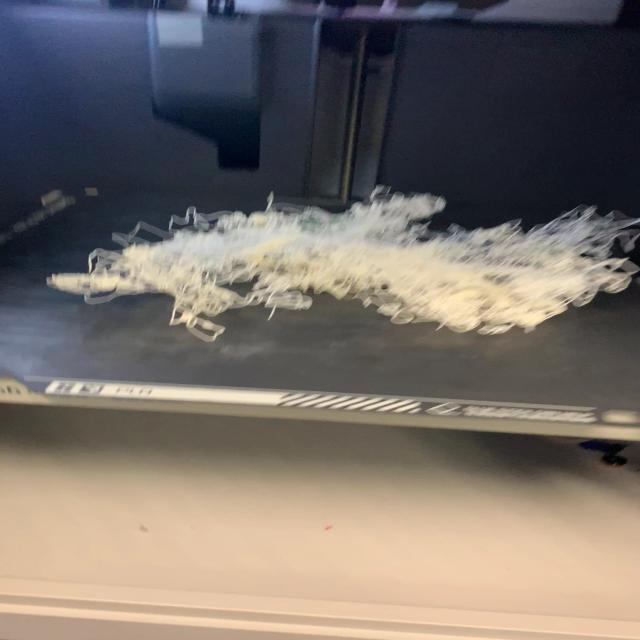spaghetti: (42, 183, 637, 344)
